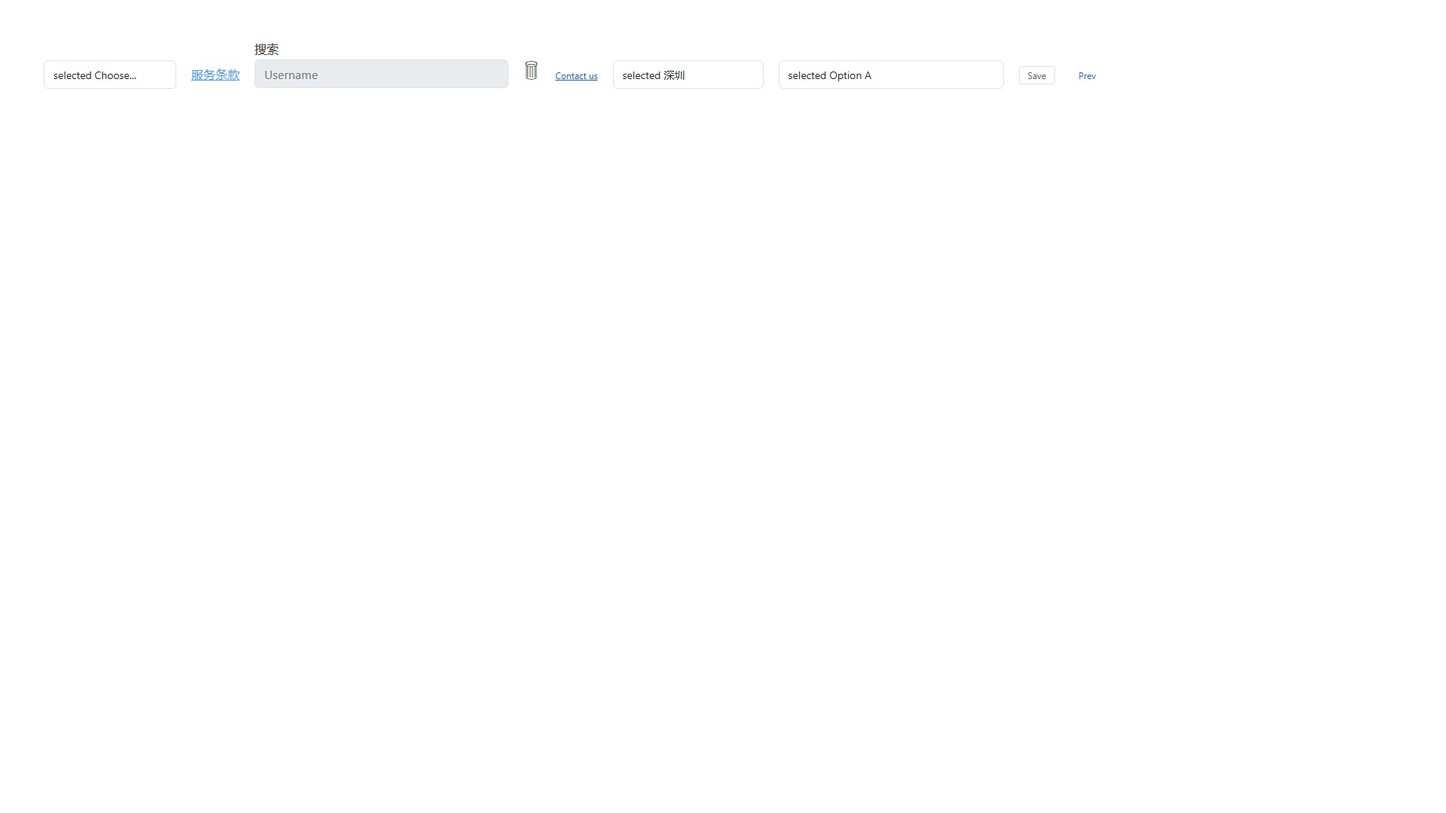button: (1019, 66, 1055, 84), (1070, 67, 1104, 83)
icon: (523, 57, 540, 81)
input: (255, 59, 508, 88)
link: (191, 66, 239, 82), (555, 69, 598, 81)
select: (778, 60, 1004, 89), (613, 60, 763, 89), (44, 60, 176, 89)
